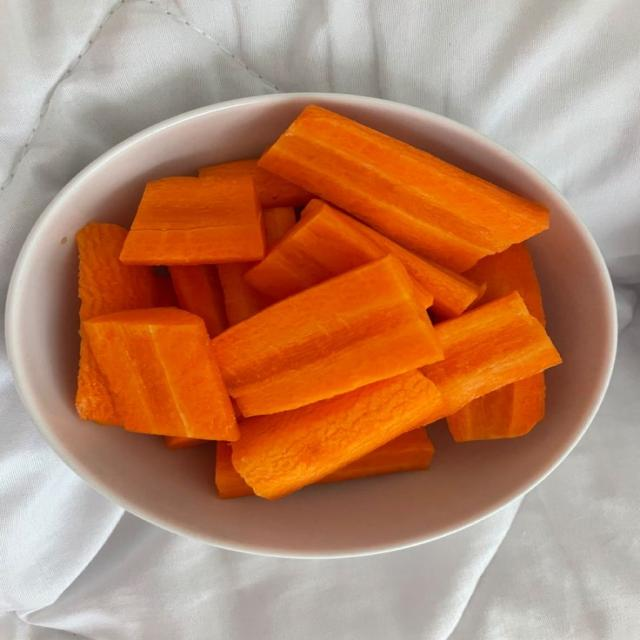carrot: (260, 106, 548, 272), (214, 256, 441, 416), (247, 199, 479, 317), (233, 371, 442, 499), (83, 308, 239, 441), (421, 292, 561, 415), (120, 177, 264, 264), (77, 224, 162, 322), (319, 428, 433, 482), (468, 244, 544, 324), (199, 159, 312, 207), (170, 265, 228, 337), (218, 263, 272, 326), (218, 263, 272, 325), (263, 207, 296, 249), (165, 436, 206, 449)
